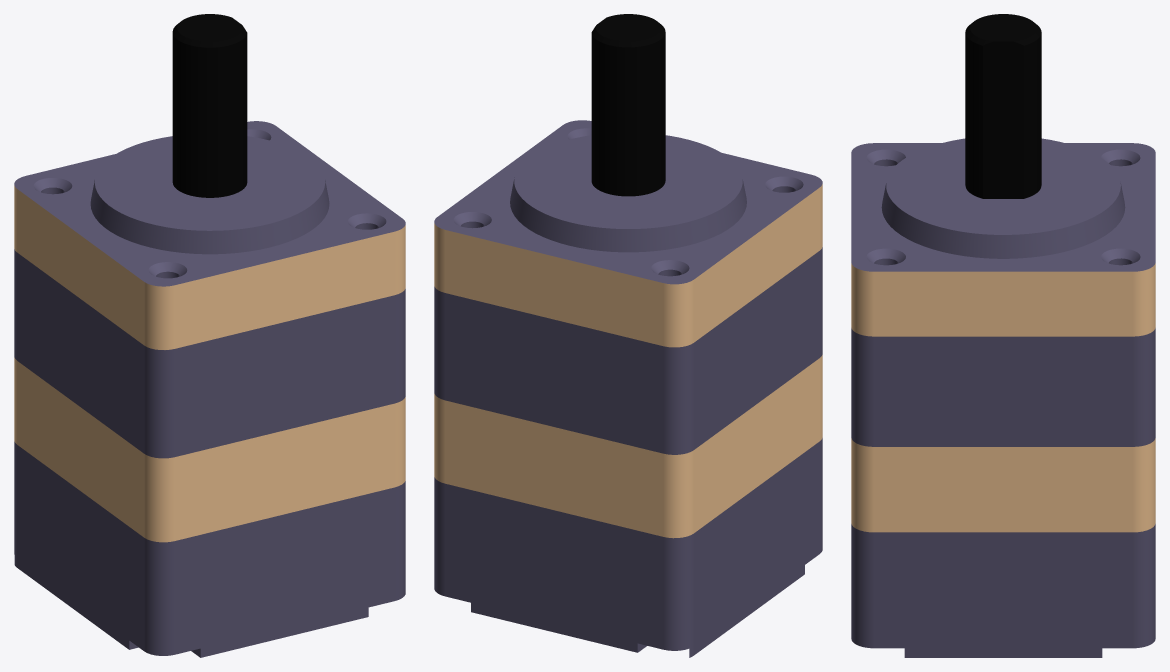
Rendered from Main_PK513PA-H50S_v2.dae.
3 views of the same model, side by side, from view 1: azimuth 30°, elevation 25°; view 2: azimuth 150°, elevation 25°; view 3: azimuth 270°, elevation 25° (orthographic). The views are drawn at different scales.
Parts seen in each view (by area): view 1: Main_PK513PA-H50S_v2; view 2: Main_PK513PA-H50S_v2; view 3: Main_PK513PA-H50S_v2.
Part boxes in pixels (x1,y1,x2,y2): Main_PK513PA-H50S_v2: (14, 14, 405, 657); Main_PK513PA-H50S_v2: (434, 14, 822, 657); Main_PK513PA-H50S_v2: (851, 14, 1155, 657).
Bounding box in the file's own units: 0.02 × 0.02 × 0.041.
